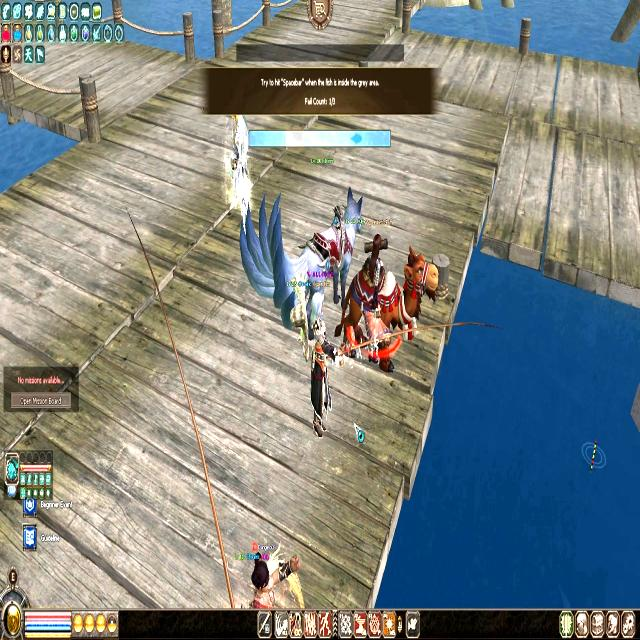fishes: (350, 132, 361, 144)
